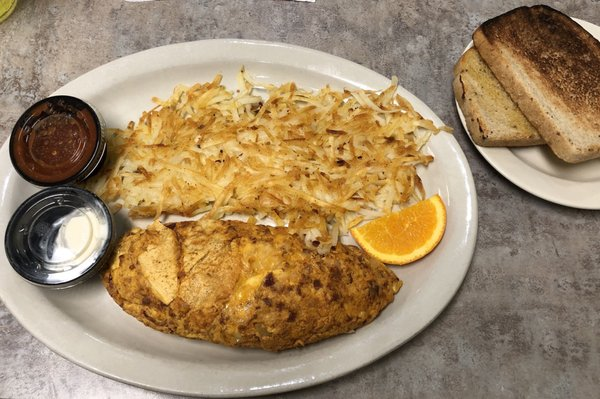soup: (467, 4, 600, 165)
taco: (350, 193, 447, 267)
